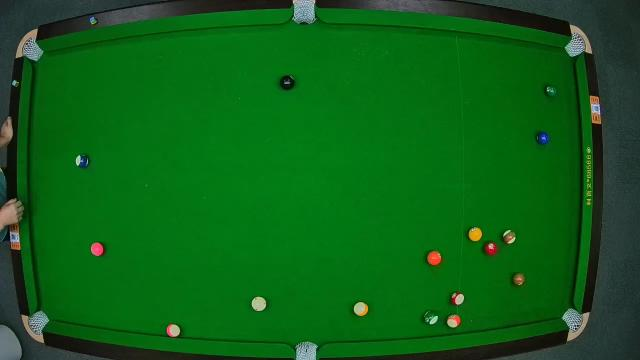bag1: (24, 40, 40, 62)
bag2: (292, 2, 316, 22)
bag3: (566, 34, 584, 56)
bag4: (27, 310, 49, 336)
bag5: (295, 342, 319, 360)
bag6: (562, 308, 584, 332)
ball0: (250, 296, 266, 312)
ball1: (468, 226, 484, 243)
ball10: (74, 154, 90, 170)
ball11: (450, 292, 466, 307)
ball12: (165, 323, 181, 337)
ball13: (446, 313, 462, 329)
ball14: (424, 310, 438, 324)
ball15: (502, 229, 518, 245)
ball2: (536, 130, 550, 146)
ball3: (484, 241, 498, 256)
ball4: (90, 242, 108, 258)
ball5: (427, 250, 443, 266)
ball6: (544, 82, 560, 98)
ball7: (512, 272, 524, 288)
ball8: (280, 75, 296, 89)
ball9: (352, 301, 370, 317)
